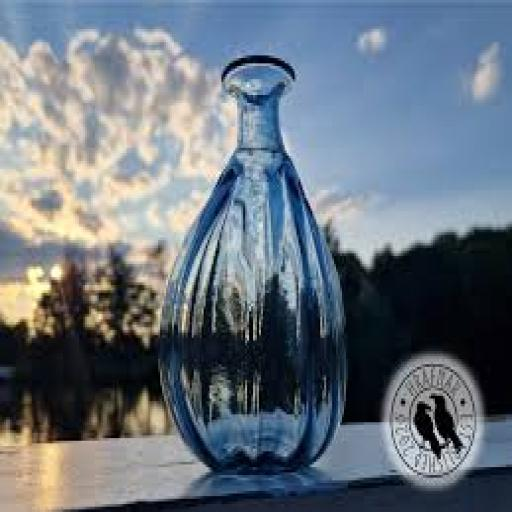blue-bottle: (160, 53, 344, 472)
